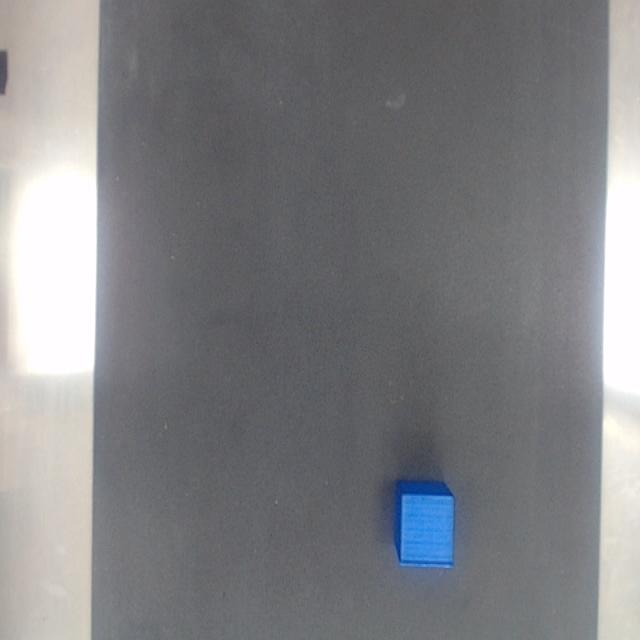Azul: (395, 480, 454, 567)
